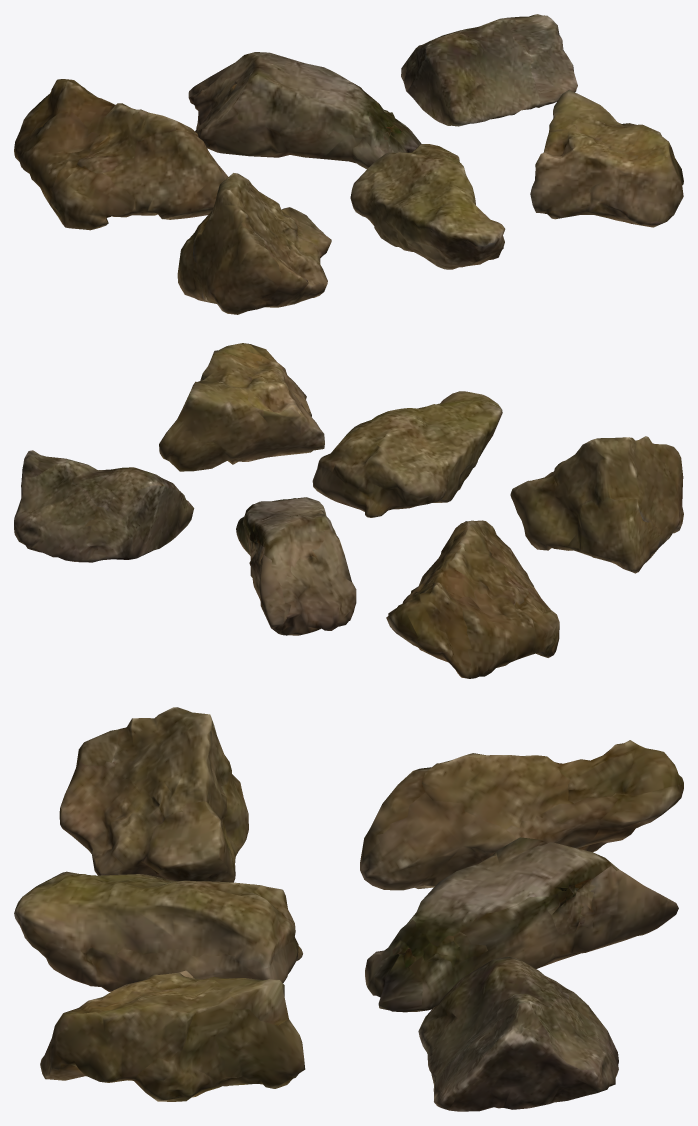
File: rock_moss_set_01.glb
The picture shows the model from 3 angles, top to bottom: view 1: azimuth 30°, elevation 25°; view 2: azimuth 150°, elevation 25°; view 3: azimuth 270°, elevation 25°; orthographic projection. The views are drawn at different scales.
Parts seen in each view (by area): view 1: rock_moss_set_01_rock01, rock_moss_set_01_rock02, rock_moss_set_01_rock06, rock_moss_set_01_rock04, rock_moss_set_01_rock03, rock_moss_set_01_rock05; view 2: rock_moss_set_01_rock04, rock_moss_set_01_rock01, rock_moss_set_01_rock05, rock_moss_set_01_rock03, rock_moss_set_01_rock06, rock_moss_set_01_rock02; view 3: rock_moss_set_01_rock01, rock_moss_set_01_rock02, rock_moss_set_01_rock05, rock_moss_set_01_rock04, rock_moss_set_01_rock06, rock_moss_set_01_rock03.
Part boxes in pixels (x1=…): rock_moss_set_01_rock01: x1=14, y1=79, x2=227, y2=230; rock_moss_set_01_rock02: x1=188, y1=52, x2=421, y2=169; rock_moss_set_01_rock06: x1=530, y1=89, x2=683, y2=227; rock_moss_set_01_rock04: x1=177, y1=173, x2=331, y2=314; rock_moss_set_01_rock03: x1=401, y1=14, x2=577, y2=126; rock_moss_set_01_rock05: x1=350, y1=144, x2=505, y2=269; rock_moss_set_01_rock04: x1=510, y1=436, x2=683, y2=573; rock_moss_set_01_rock01: x1=386, y1=520, x2=559, y2=678; rock_moss_set_01_rock05: x1=312, y1=391, x2=502, y2=517; rock_moss_set_01_rock03: x1=14, y1=450, x2=194, y2=562; rock_moss_set_01_rock06: x1=159, y1=343, x2=324, y2=471; rock_moss_set_01_rock02: x1=236, y1=497, x2=356, y2=635; rock_moss_set_01_rock01: x1=360, y1=740, x2=683, y2=890; rock_moss_set_01_rock02: x1=365, y1=837, x2=678, y2=1012; rock_moss_set_01_rock05: x1=14, y1=871, x2=302, y2=991; rock_moss_set_01_rock04: x1=59, y1=707, x2=248, y2=882; rock_moss_set_01_rock06: x1=40, y1=970, x2=305, y2=1101; rock_moss_set_01_rock03: x1=418, y1=956, x2=618, y2=1111.
Bounding box in the file's own units: 8 × 1.76 × 6.94.
Materials: 1 (1 with a texture image).
